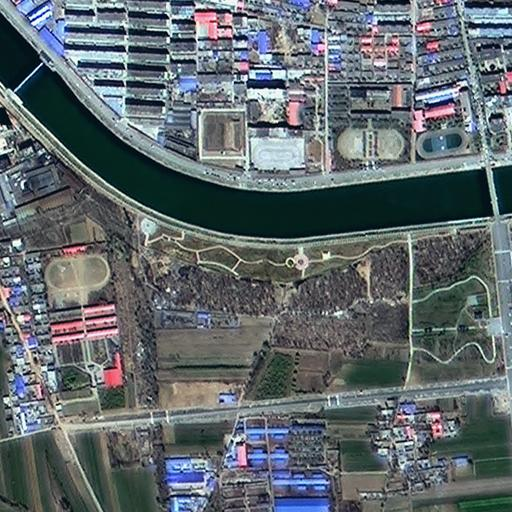school: (41, 246, 127, 392), (327, 86, 412, 168), (248, 89, 326, 177), (415, 89, 478, 159)
